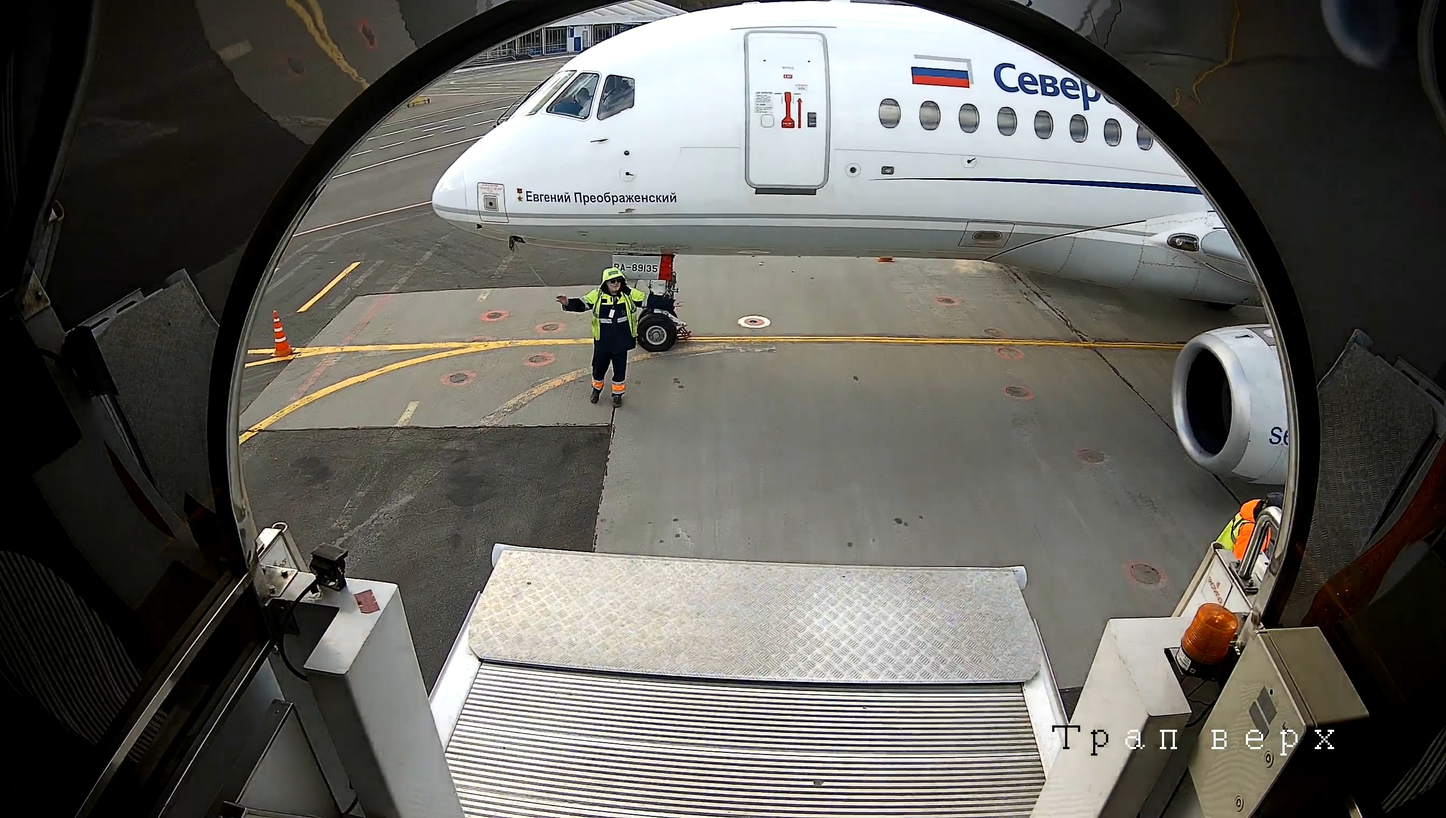boots: (671, 320, 700, 350)
wheels: (636, 311, 678, 352)
